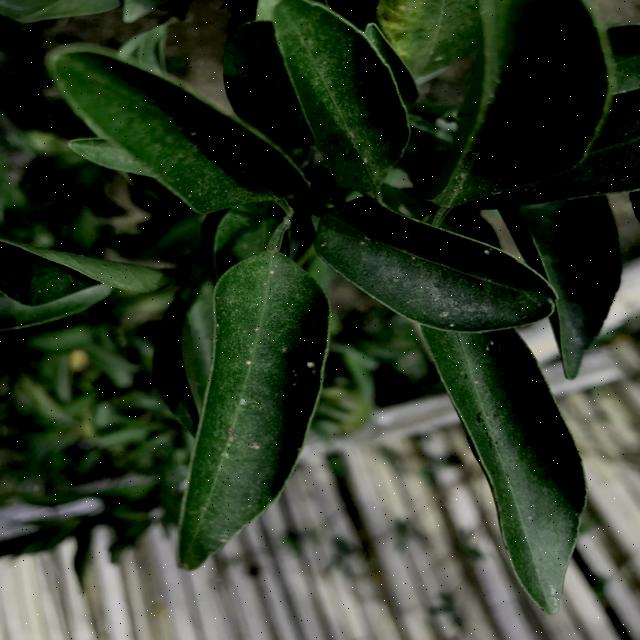canker: (204, 266, 321, 528), (341, 207, 549, 323)
